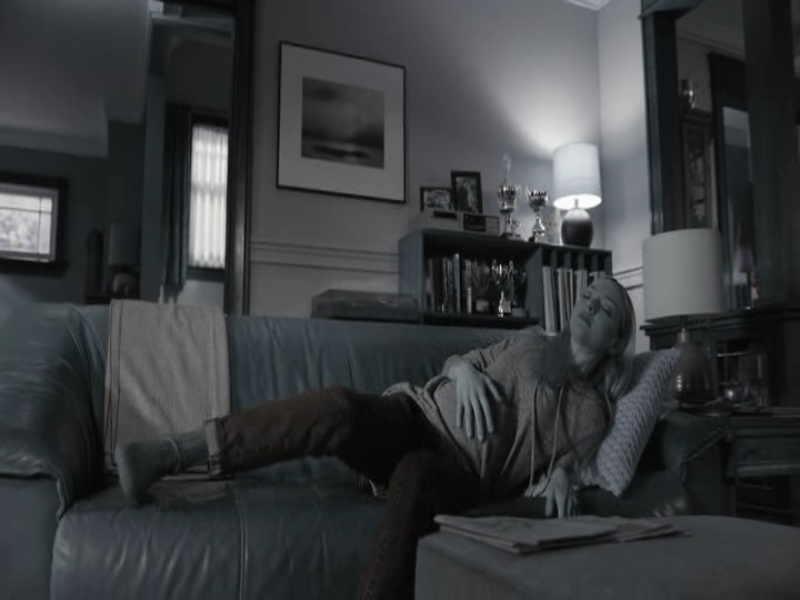TsisyArotava: (563, 264, 637, 381)
